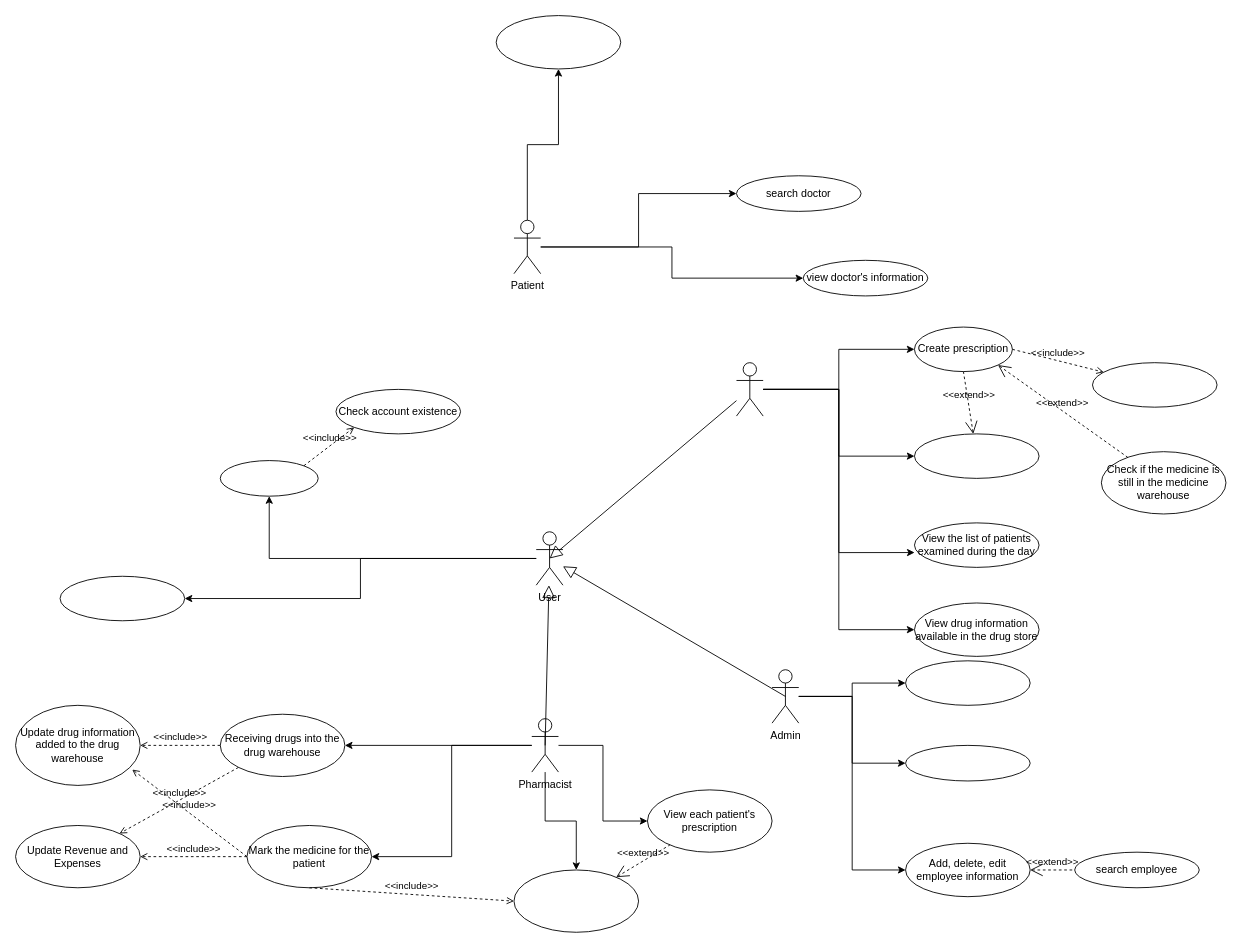
This 1242x948 diagram has some shape labels left out. The shapes that lost their labels are listed below. From the top down, each one's box as (x1, y1, x2, y2) in pixels, then its label:
(495, 15, 621, 69): Make an appointment with your doctor
(736, 362, 763, 416): Doctor
(1092, 362, 1217, 407): View each patient's medical history
(914, 433, 1039, 478): Mark the patient as examined
(219, 460, 318, 496): Login system
(59, 575, 185, 621): Logout system
(905, 660, 1030, 705): View customer reviews
(905, 744, 1030, 781): create statistics
(513, 869, 639, 932): create invoice
